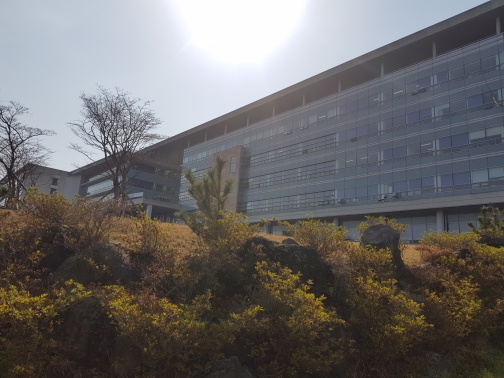Engineering College Building 4: (50, 90, 504, 214), (222, 40, 365, 227), (377, 24, 495, 228)
